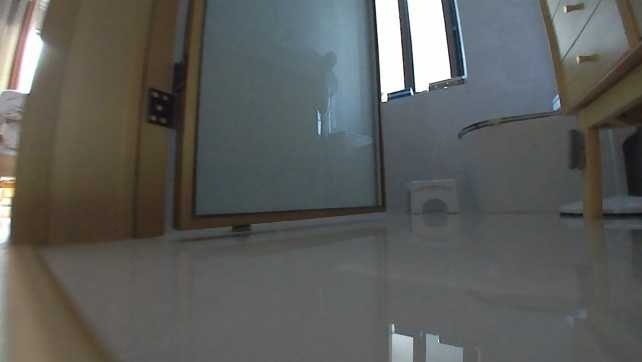door_anno: (12, 0, 390, 245)
door_sill: (3, 240, 112, 361)
toilet: (455, 91, 576, 211)
